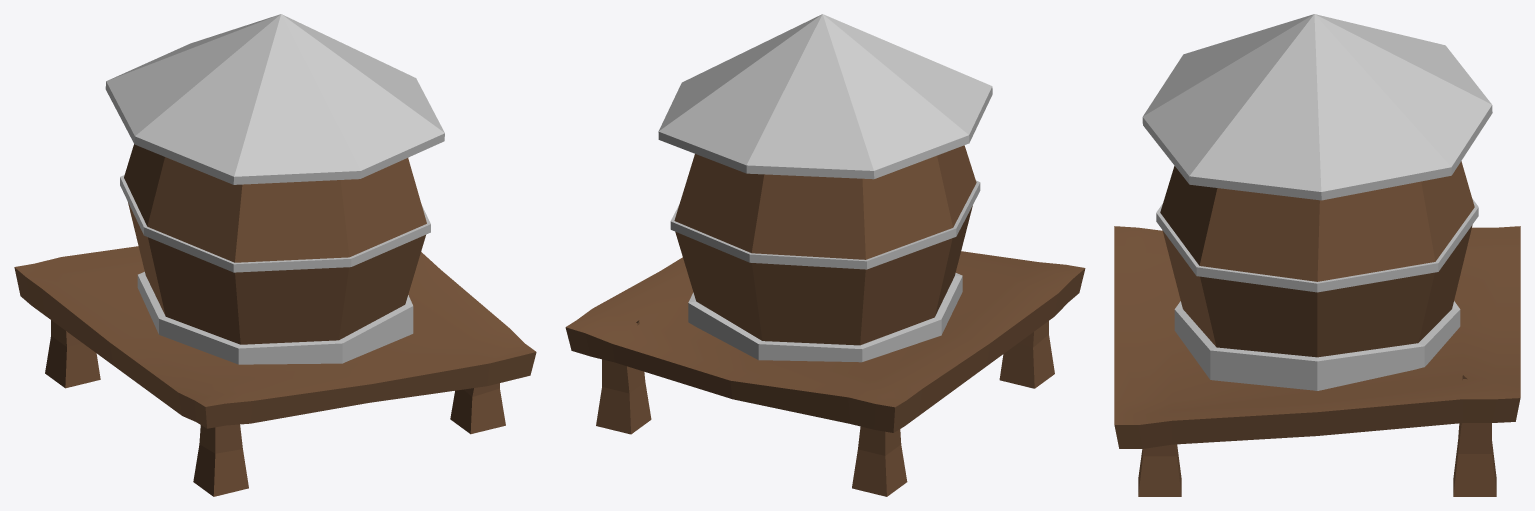
File: bld-watertower.glb
The picture shows the model from 3 angles, left to right: view 1: azimuth 30°, elevation 25°; view 2: azimuth 150°, elevation 25°; view 3: azimuth 270°, elevation 25°; orthographic projection. The views are drawn at different scales.
Visible parts, largest first — view 1: Cube-col; view 2: Cube-col; view 3: Cube-col.
Part boxes in pixels (x1,y1,x2,y2): Cube-col: (14, 14, 536, 496); Cube-col: (565, 14, 1085, 496); Cube-col: (1114, 14, 1520, 496).
Size of the model in its own units: 8.53 by 9.5 by 8.53.
